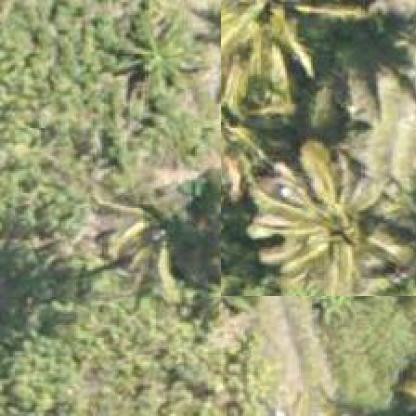coconut tree: (220, 0, 415, 298)
